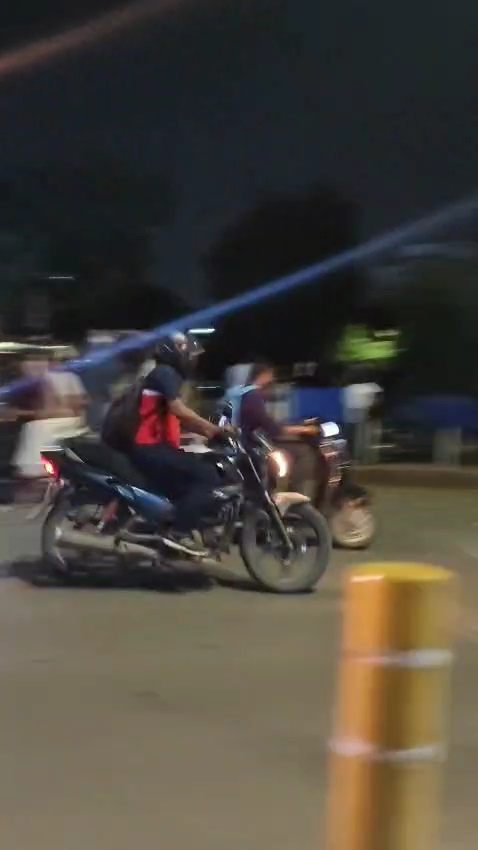BikeWithRider: (21, 293, 343, 599), (185, 350, 404, 553)
Helmet: (140, 325, 214, 387)
NoHelmet: (244, 348, 292, 407)
